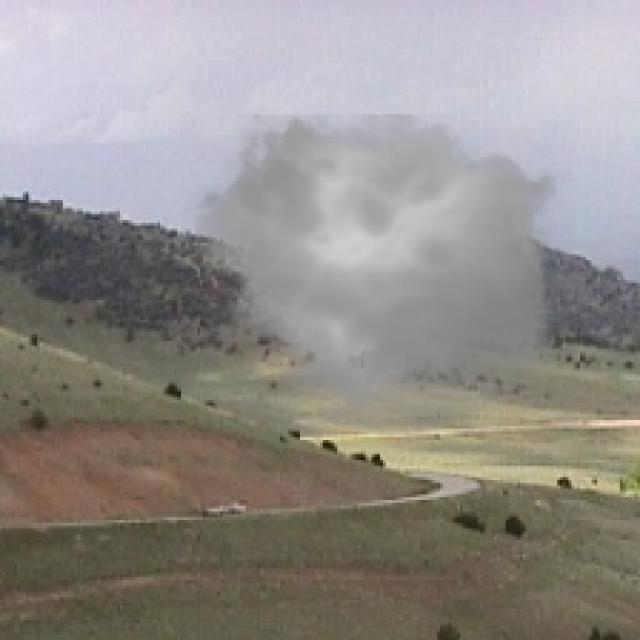smoke: (180, 97, 574, 446)
